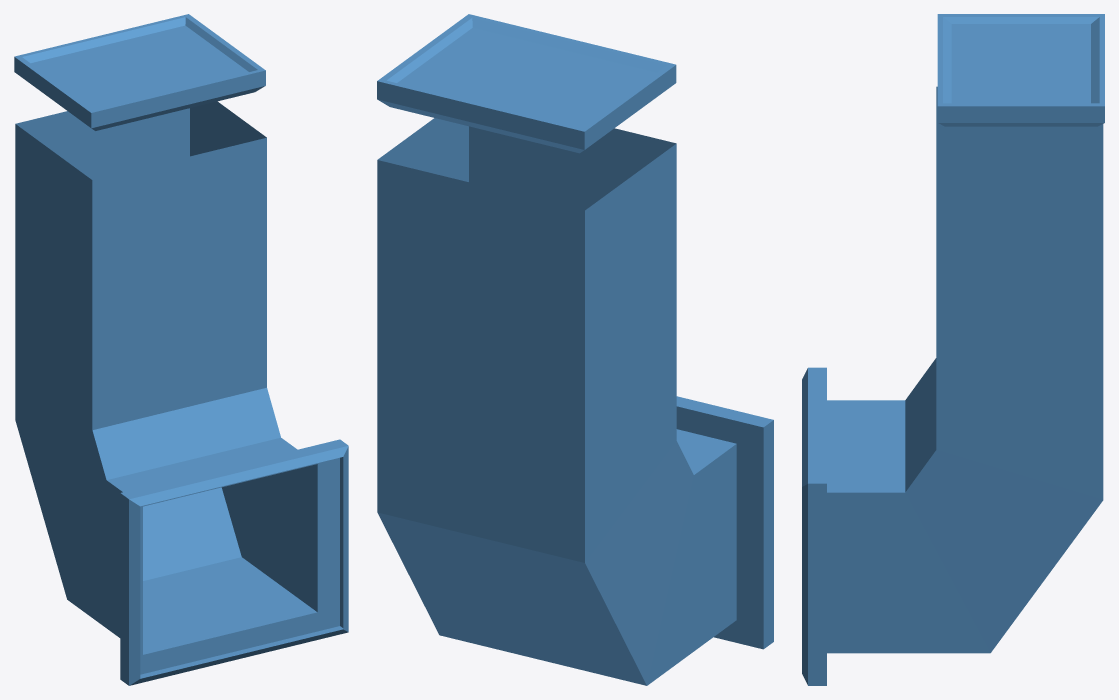
Rendered from garbagechute.fbx.
The picture shows the model from 3 angles, left to right: view 1: azimuth 30°, elevation 25°; view 2: azimuth 150°, elevation 25°; view 3: azimuth 270°, elevation 25°; orthographic projection. The views are drawn at different scales.
Visible parts, largest first — view 1: TrashChute; view 2: TrashChute; view 3: TrashChute.
Boxes of the visible parts, x1,y1,x2,y2 form: TrashChute: (14,14,348,685); TrashChute: (377,14,773,685); TrashChute: (802,14,1104,685).
Size of the model in its own units: 8.51 by 19.39 by 9.38.
